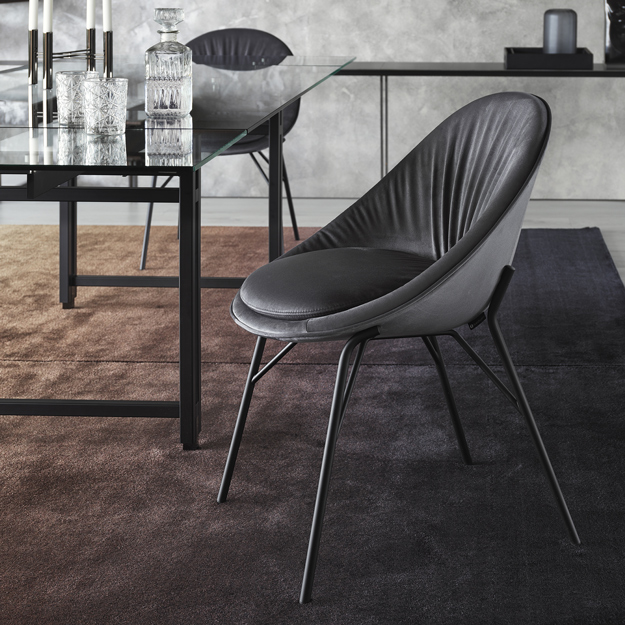chair: (213, 83, 591, 612)
glass: (139, 7, 197, 123), (49, 64, 129, 140)
table: (3, 27, 373, 493)
